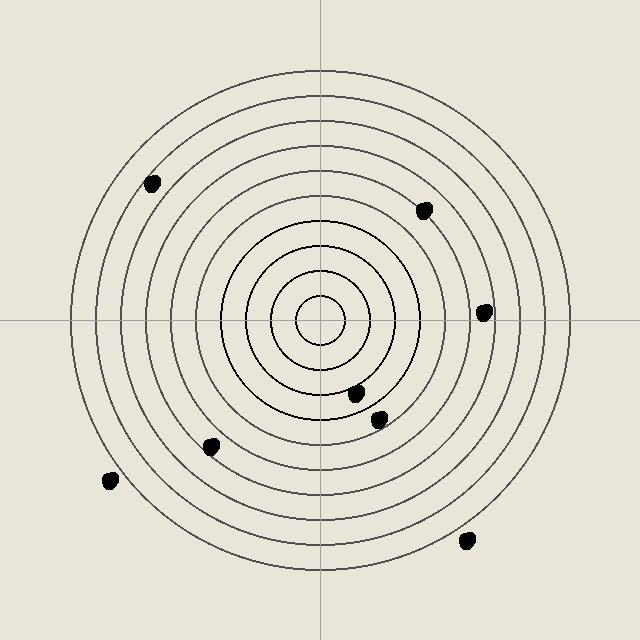random_scatter: (368, 409, 388, 429), (345, 383, 365, 403), (141, 173, 161, 193), (473, 302, 493, 322), (99, 470, 119, 490), (200, 436, 220, 456), (413, 200, 433, 220), (456, 530, 476, 550)
